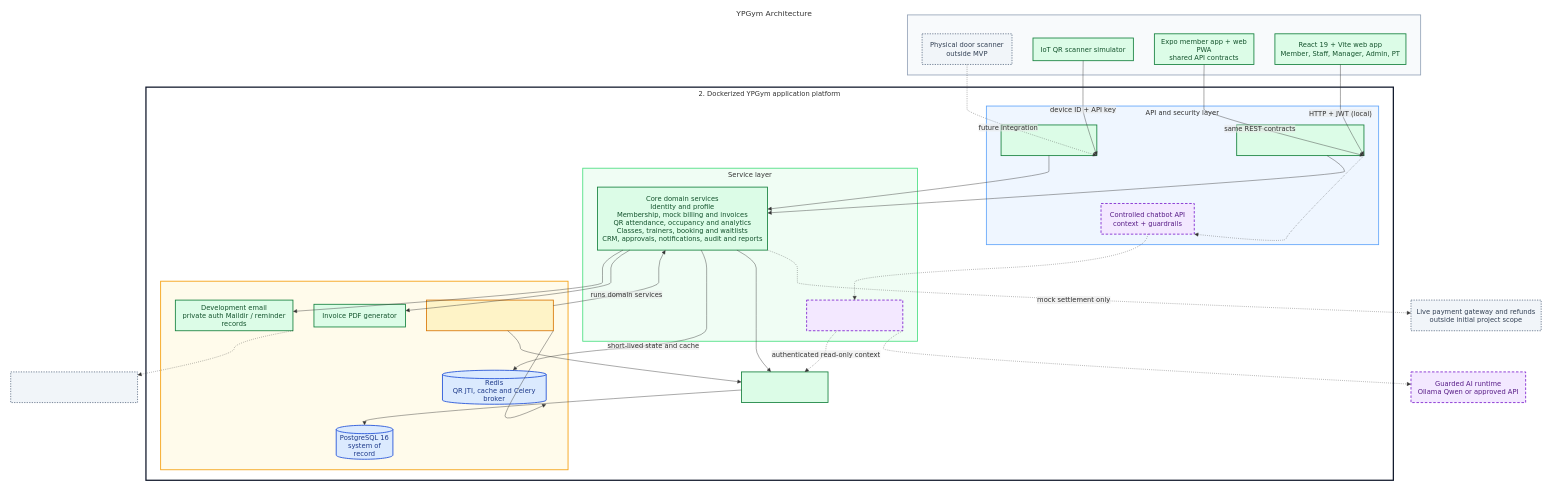
Some shapes in this 1549 by 488 pixel diagram are drawn without their labels. Each missing label, with the box of its shape:
1. Users and client channels: (907, 14, 1421, 75)
Celery Worker + Beat lifecycle, reminders and timeouts: (426, 299, 554, 331)
Data, jobs and output adapters: (160, 281, 568, 470)
Device-authenticated attendance scanner API: (1000, 124, 1097, 156)
FastAPI REST API Pydantic + OpenAPI + JWT + RBAC: (1236, 124, 1364, 156)
Repository layer Async SQLAlchemy 2: (741, 371, 828, 403)
SMTP / production email provider future deployment integration: (10, 371, 138, 403)
YPGym support chatbot system questions only: (806, 299, 903, 331)
